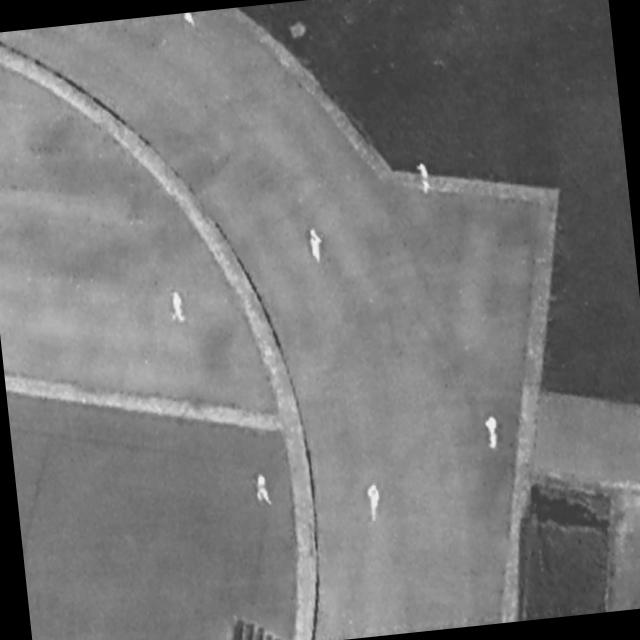person: (252, 470, 273, 508), (366, 484, 385, 525), (483, 413, 503, 450), (306, 225, 325, 262), (169, 292, 186, 323), (417, 162, 432, 196), (181, 12, 198, 26)
